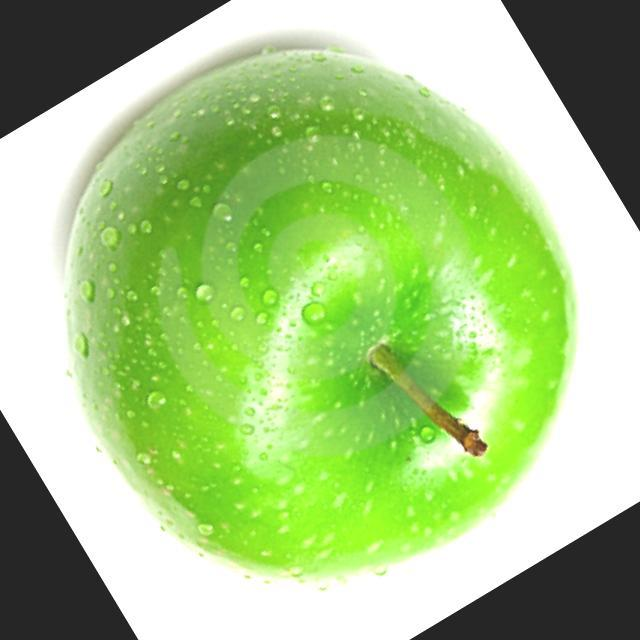Green Apple: (63, 45, 578, 583)
